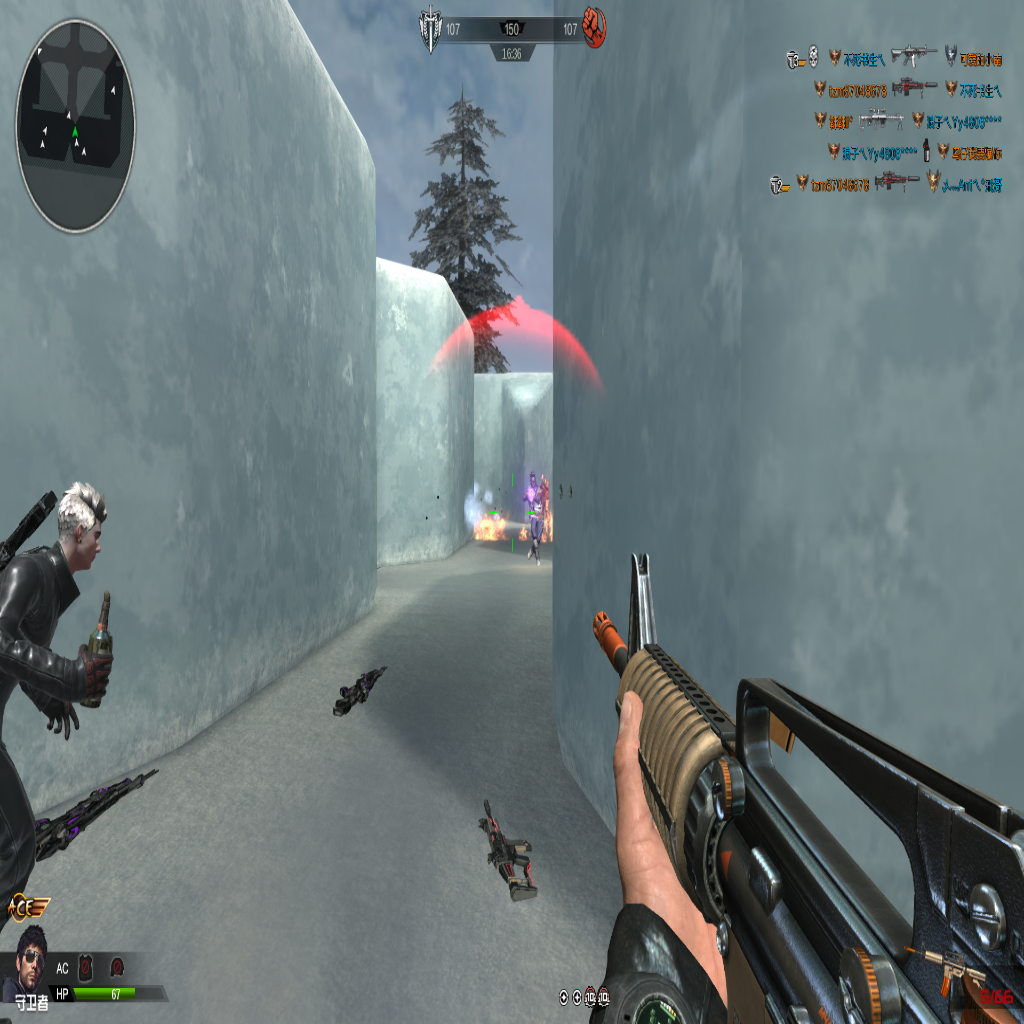tt: (526, 472, 540, 575)
